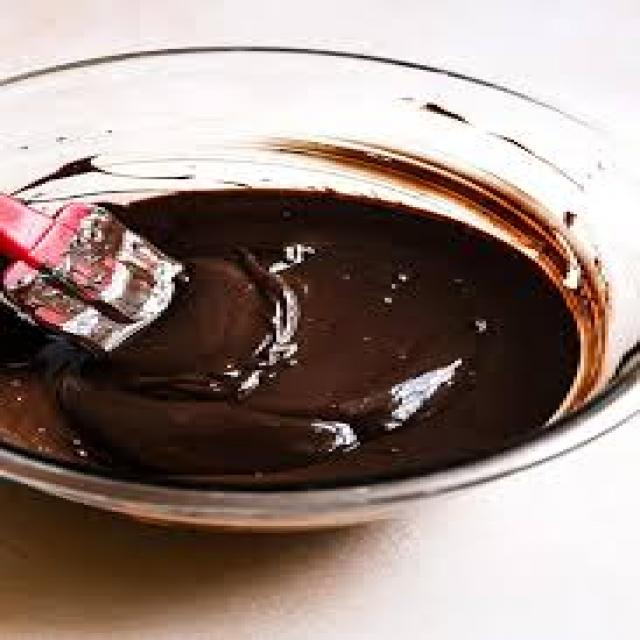Chocolate: (0, 184, 581, 491)
